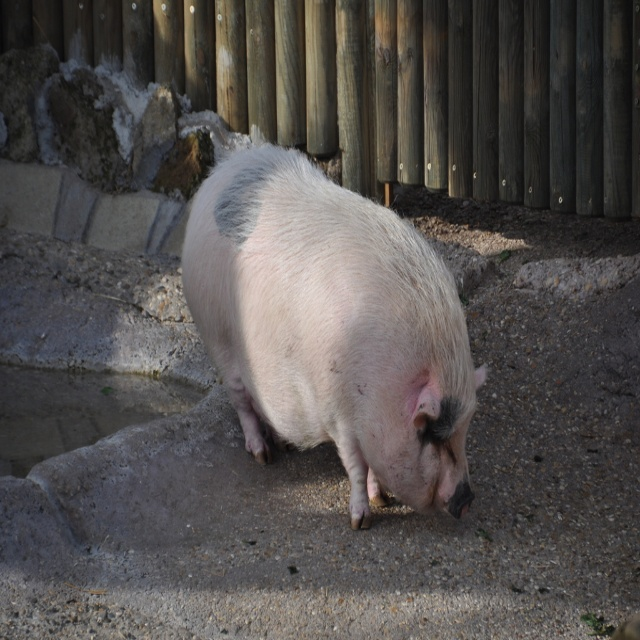Pig: (178, 138, 490, 532)
